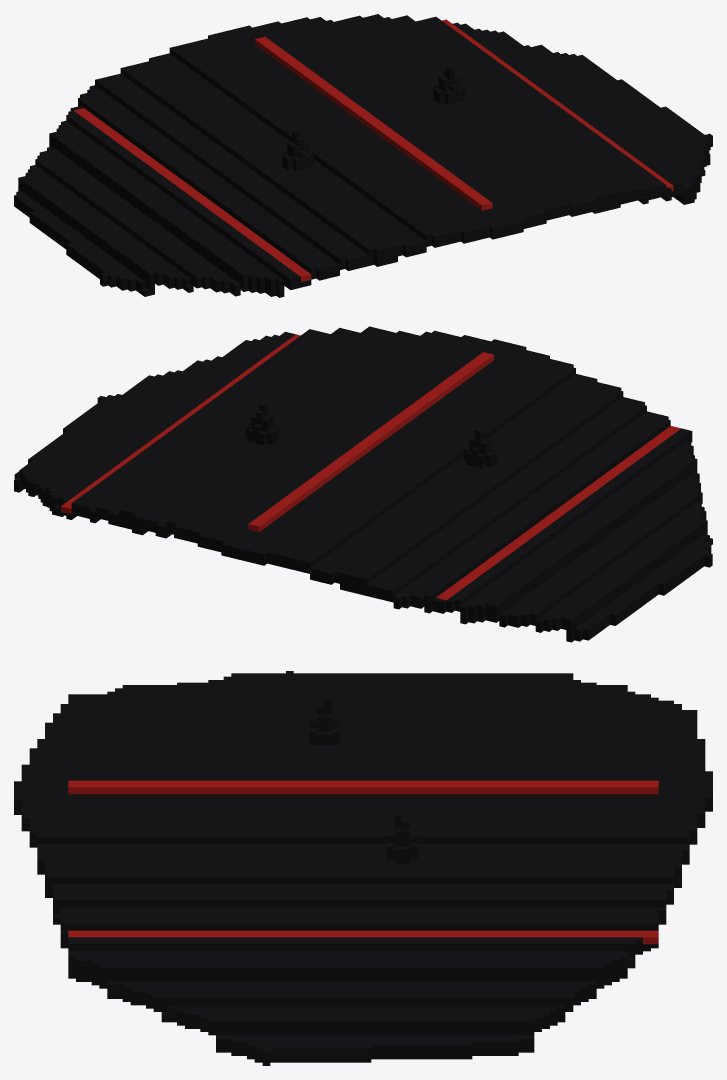
The model's file is demon_chitin_plate.glb.
The picture shows the model from 3 angles, top to bottom: view 1: azimuth 30°, elevation 25°; view 2: azimuth 150°, elevation 25°; view 3: azimuth 270°, elevation 25°; orthographic projection. The views are drawn at different scales.
Parts seen in each view (by area): view 1: demon_chitin_plate:compound; view 2: demon_chitin_plate:compound; view 3: demon_chitin_plate:compound.
Boxes of the visible parts, x1,y1,x2,y2 form: demon_chitin_plate:compound: (14,14,712,297); demon_chitin_plate:compound: (14,326,712,642); demon_chitin_plate:compound: (14,671,712,1065).
Size of the model in its own units: 0.464 by 0.068 by 0.36.
